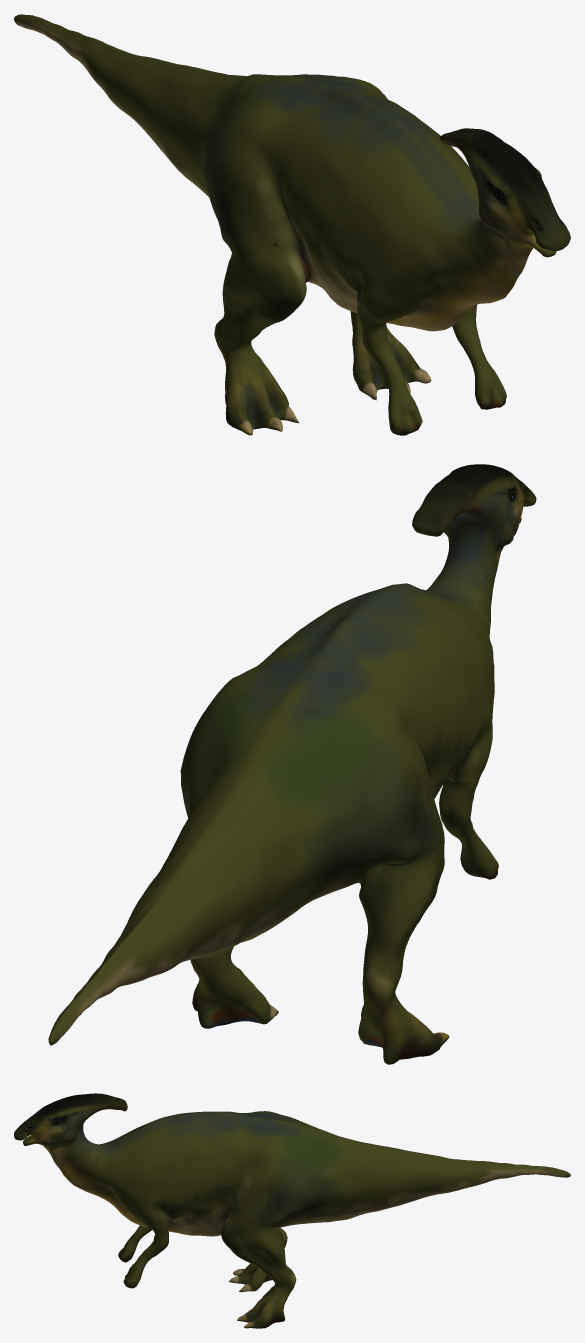
The model's file is Parasaurolophus2.fbx.
3 views of the same model, one above another, from view 1: azimuth 30°, elevation 25°; view 2: azimuth 150°, elevation 25°; view 3: azimuth 270°, elevation 25° (orthographic). The views are drawn at different scales.
Visible parts, largest first — view 1: Retopo_Cube; view 2: Retopo_Cube; view 3: Retopo_Cube.
Boxes of the visible parts, x1=… form: Retopo_Cube: x1=14, y1=14, x2=570, y2=435; Retopo_Cube: x1=48, y1=464, x2=536, y2=1064; Retopo_Cube: x1=14, y1=1093, x2=570, y2=1328.
Bounding box in the file's own units: 112 × 199 × 466.
1 material, 1 textured.
